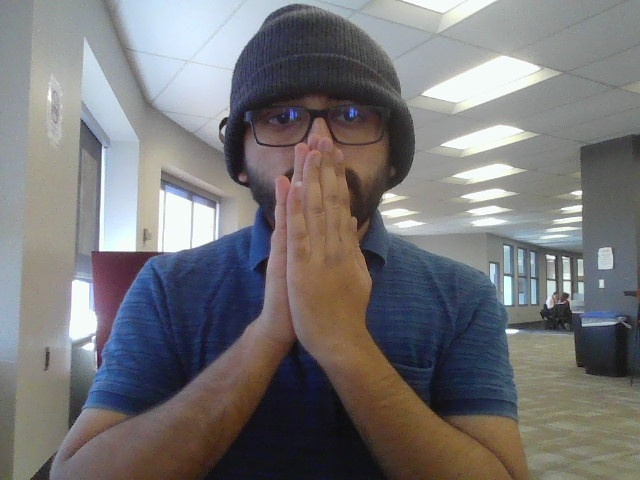start: (261, 131, 379, 362)
